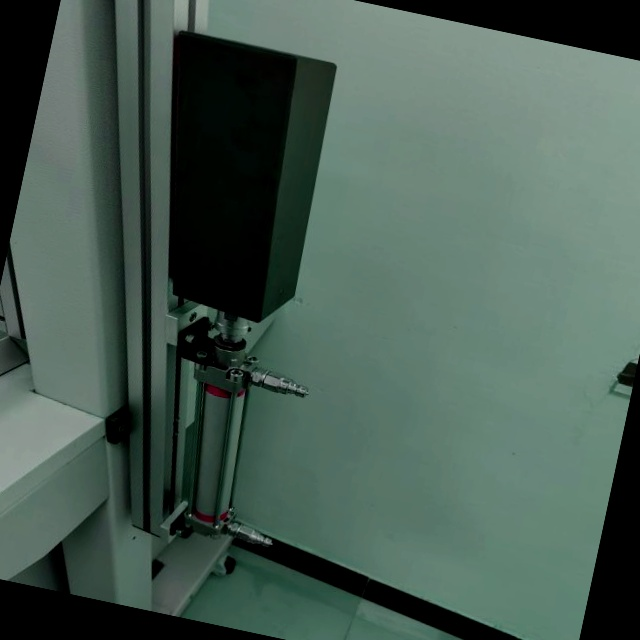load: (58, 21, 384, 563)
